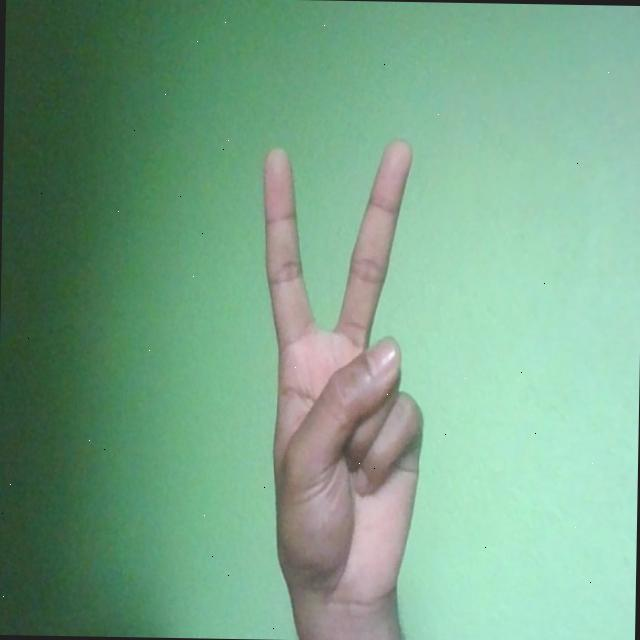Fist: (253, 134, 428, 614)
